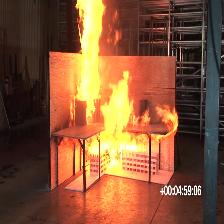fire: (89, 71, 179, 168), (75, 1, 104, 119)
